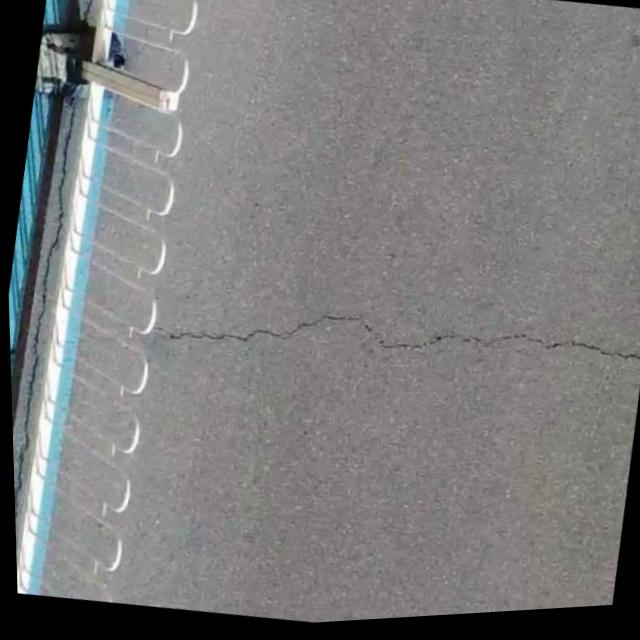Crack: (218, 278, 640, 422)
